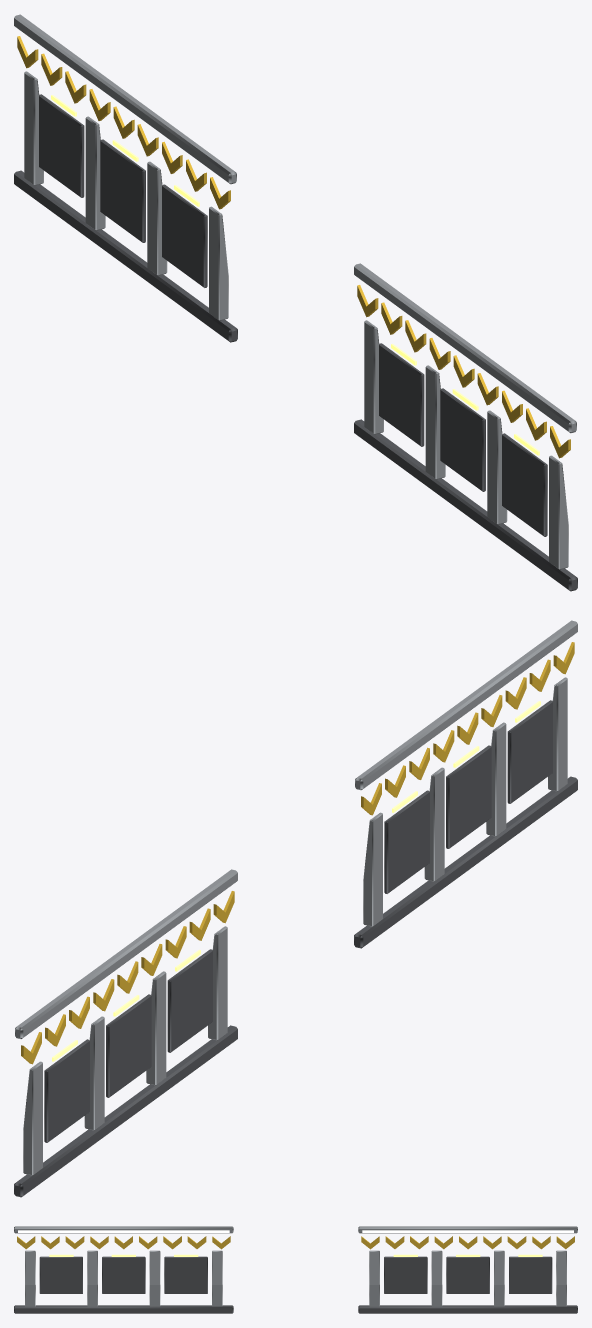
File: SM_SB_Kit_TrenchWall.fbx
3 renders of one model, top to bottom at view 1: azimuth 30°, elevation 25°; view 2: azimuth 150°, elevation 25°; view 3: azimuth 270°, elevation 25°, orthographic. The views are drawn at different scales.
Parts seen in each view (by area): view 1: SM_SB_Kit_TrenchWall; view 2: SM_SB_Kit_TrenchWall; view 3: SM_SB_Kit_TrenchWall.
Boxes of the visible parts, left/top/right/bottom form: SM_SB_Kit_TrenchWall: left=14, top=14, right=577, bottom=591; SM_SB_Kit_TrenchWall: left=14, top=620, right=577, bottom=1197; SM_SB_Kit_TrenchWall: left=14, top=1226, right=577, bottom=1313.
Size of the model in its own units: 22.5 by 2080 by 350.
